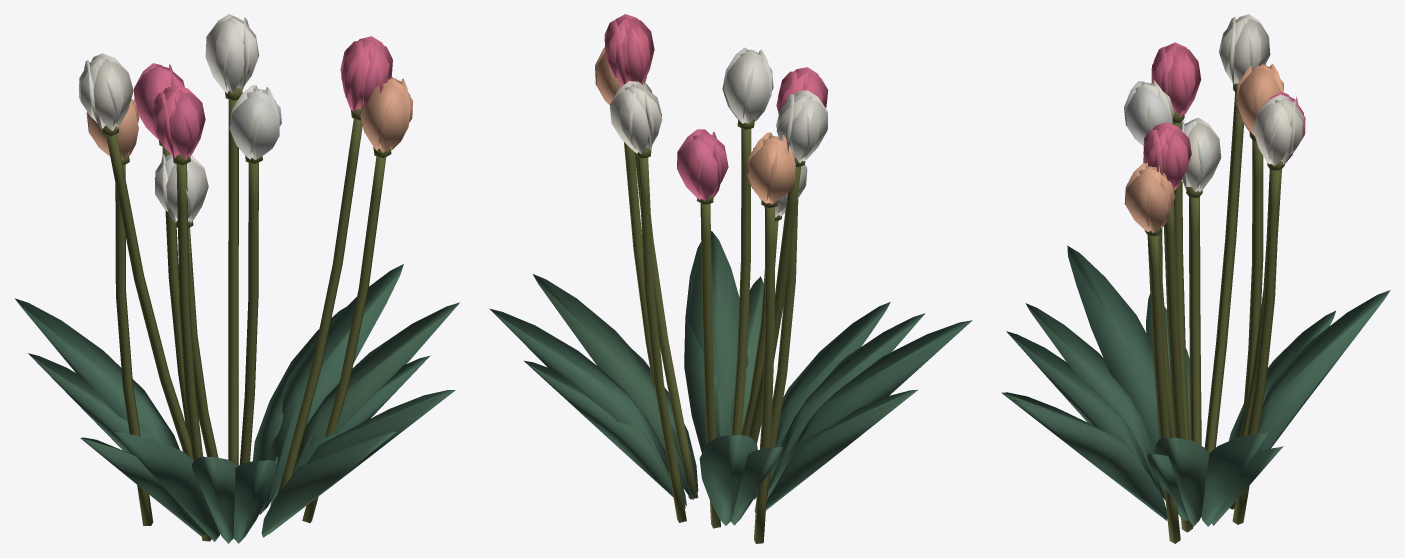
The model's file is potfill_tulips_mixed.glb.
3 renders of one model, left to right at view 1: azimuth 30°, elevation 25°; view 2: azimuth 150°, elevation 25°; view 3: azimuth 270°, elevation 25°, orthographic. The views are drawn at different scales.
Parts seen in each view (by area): view 1: Sammel Pflanze, Sammel Putz; view 2: Sammel Pflanze, Sammel Putz; view 3: Sammel Pflanze, Sammel Putz.
Boxes of the visible parts, left/top/right/bottom form: Sammel Pflanze: left=15, top=14, right=459, bottom=543; Sammel Putz: left=102, top=87, right=391, bottom=541; Sammel Pflanze: left=489, top=14, right=972, bottom=525; Sammel Putz: left=624, top=118, right=805, bottom=543; Sammel Pflanze: left=1001, top=14, right=1390, bottom=527; Sammel Putz: left=1144, top=83, right=1284, bottom=543.
Bounding box in the file's own units: 0.3519 × 0.4003 × 0.3154.
